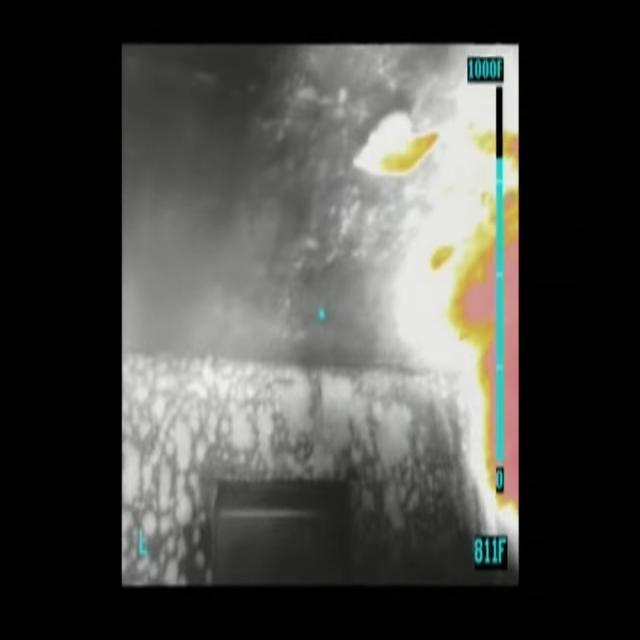fire: (457, 119, 523, 524)
